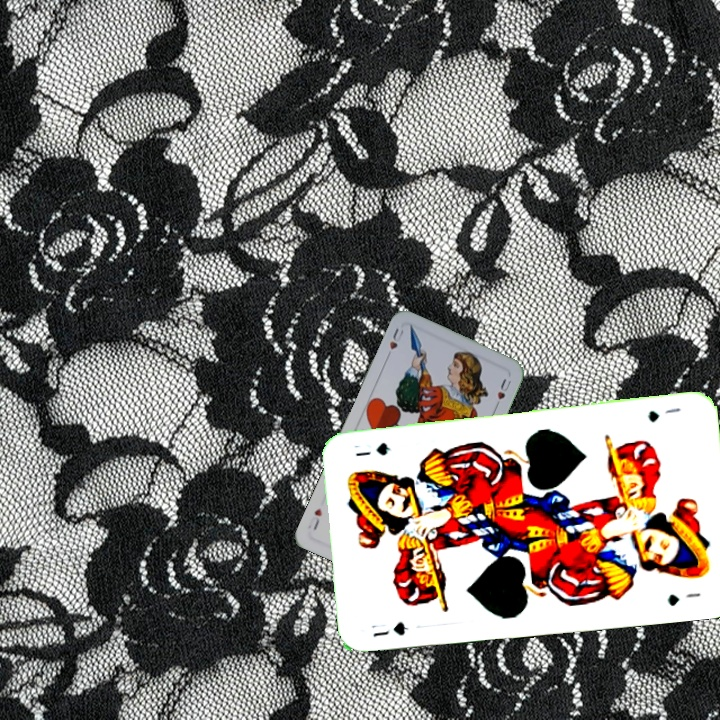GU: (367, 618, 411, 640), (644, 403, 683, 425)
HU: (382, 324, 406, 362)
